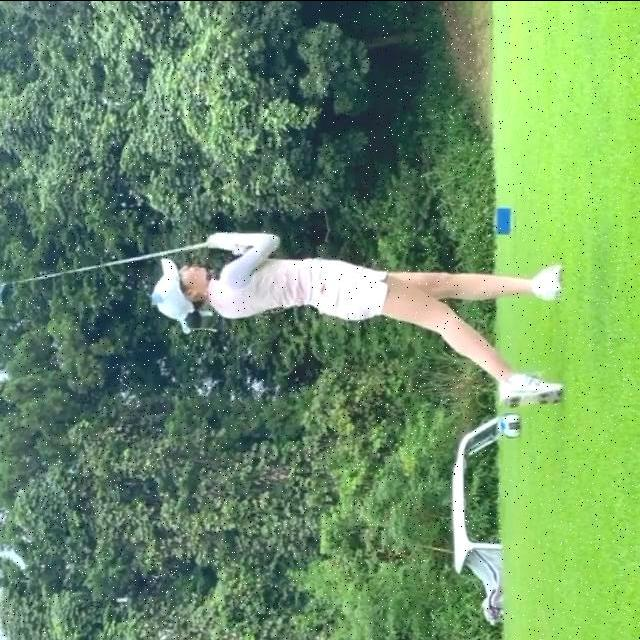golf club-handle: (0, 233, 209, 297)
golf club-head: (0, 280, 13, 297)
